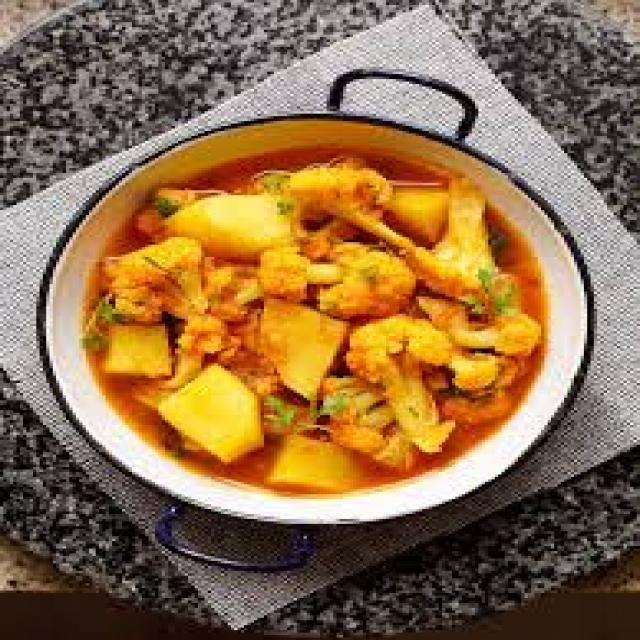Aloo Gobi: (99, 172, 546, 476)
